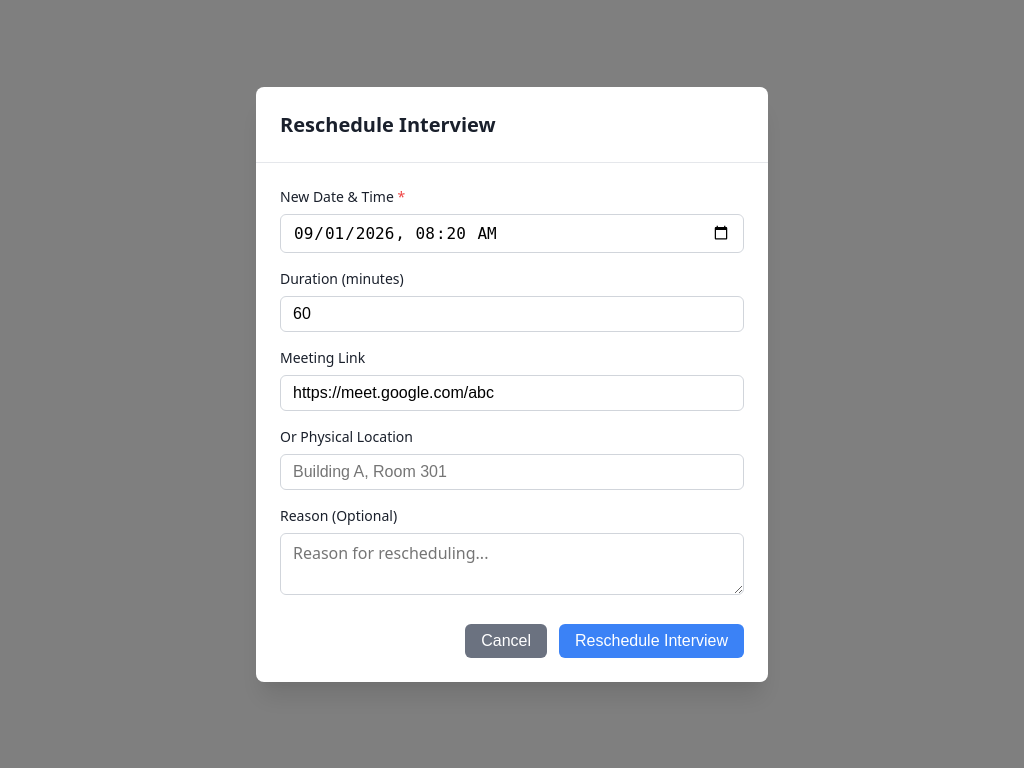
Test case: RescheduleModal › should validate duration is within allowed range
Replace the text in the number field labelled "Duration (minutes)" with "10" at (512, 314), box [280,296,744,332]
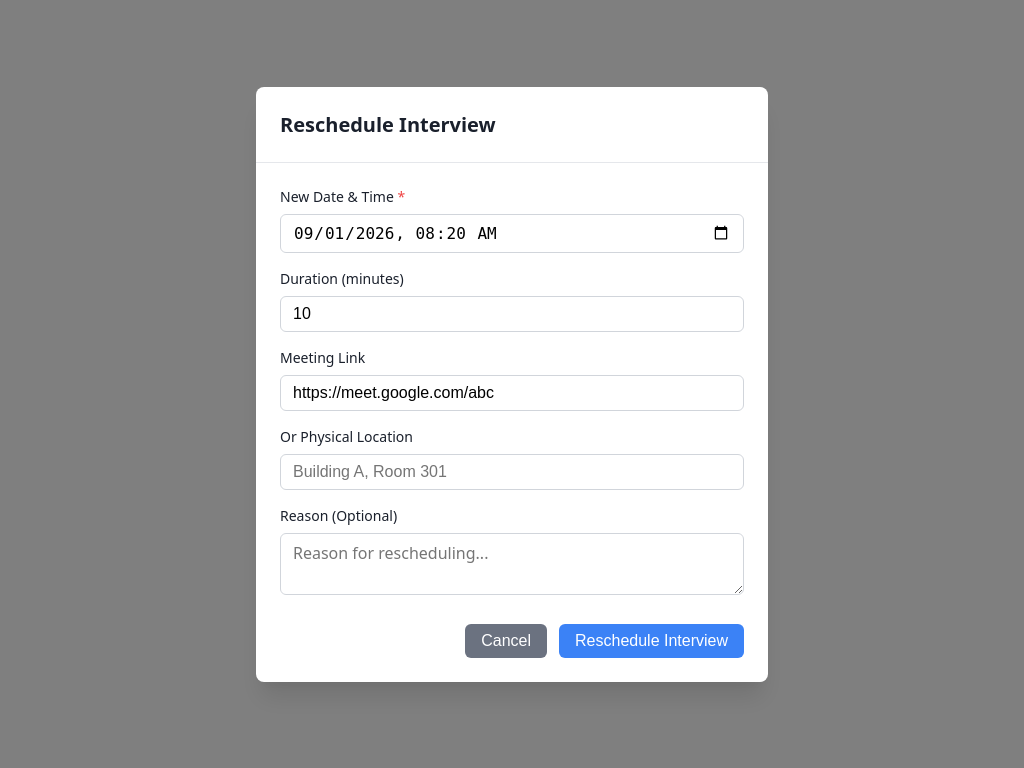
Click the button "Reschedule Interview".
click(652, 640)  # box [559,624,744,658]
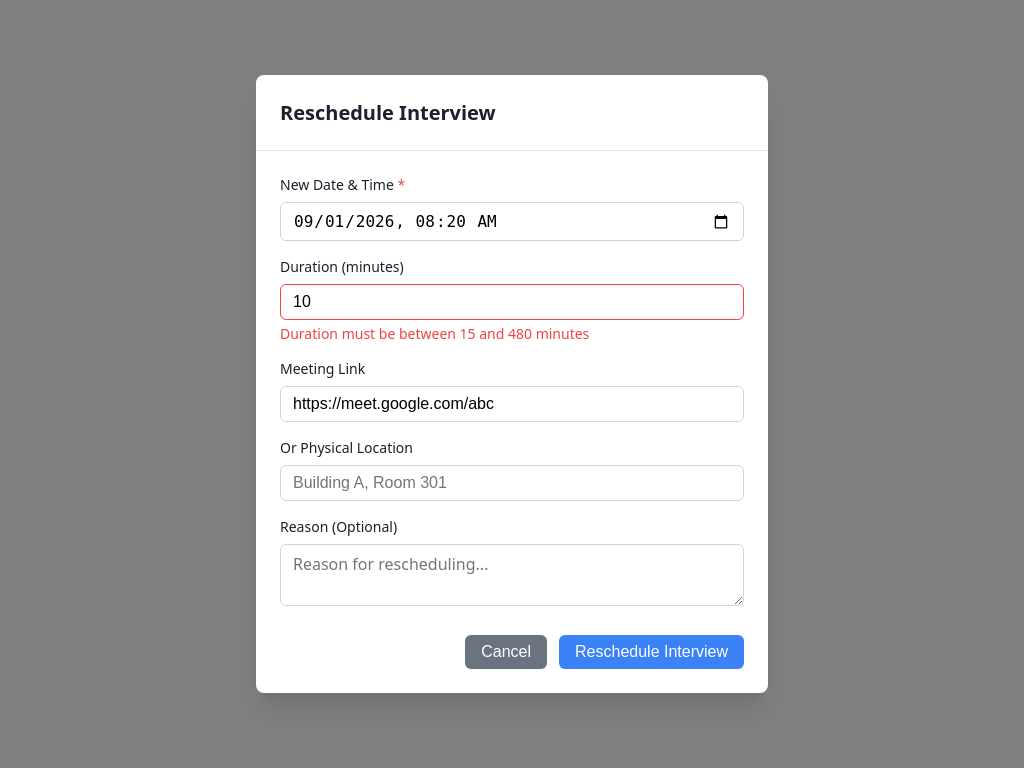
Now the text "Duration must be between 15 and 480 minutes" is shown, box [280,324,589,343]
